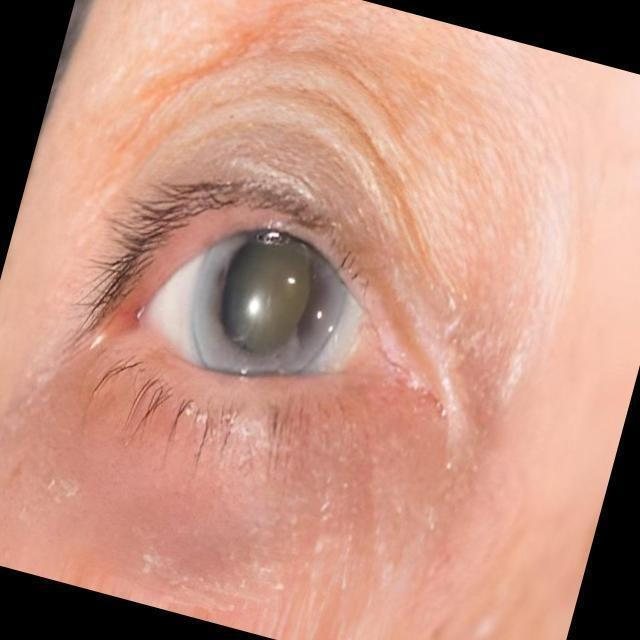Cataract: (179, 209, 350, 388)
